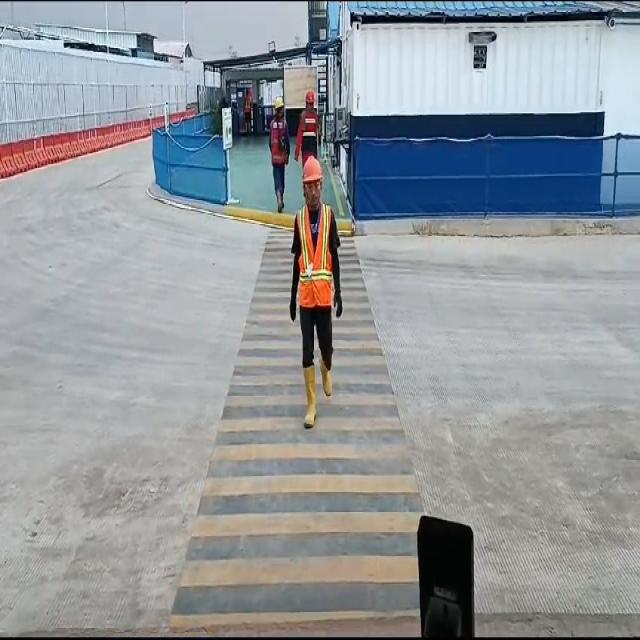gloves: (285, 295, 300, 322), (334, 292, 344, 319)
helmet: (304, 158, 322, 182), (306, 89, 316, 101), (274, 97, 284, 107)
safety_vest: (298, 212, 331, 311), (270, 122, 290, 168), (301, 113, 320, 155)
